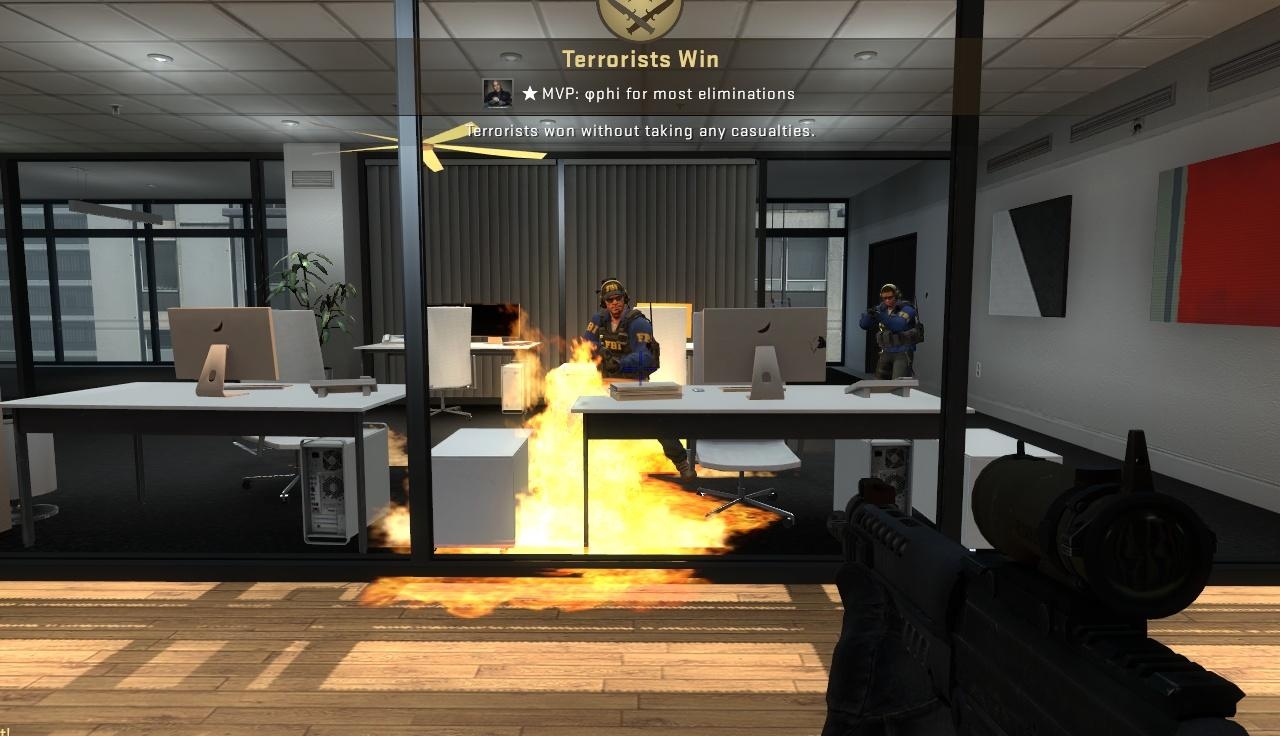ct: (581, 278, 657, 384), (870, 283, 918, 379)
cthead: (598, 279, 629, 316), (881, 284, 898, 307)
rifle: (828, 423, 1280, 736)
